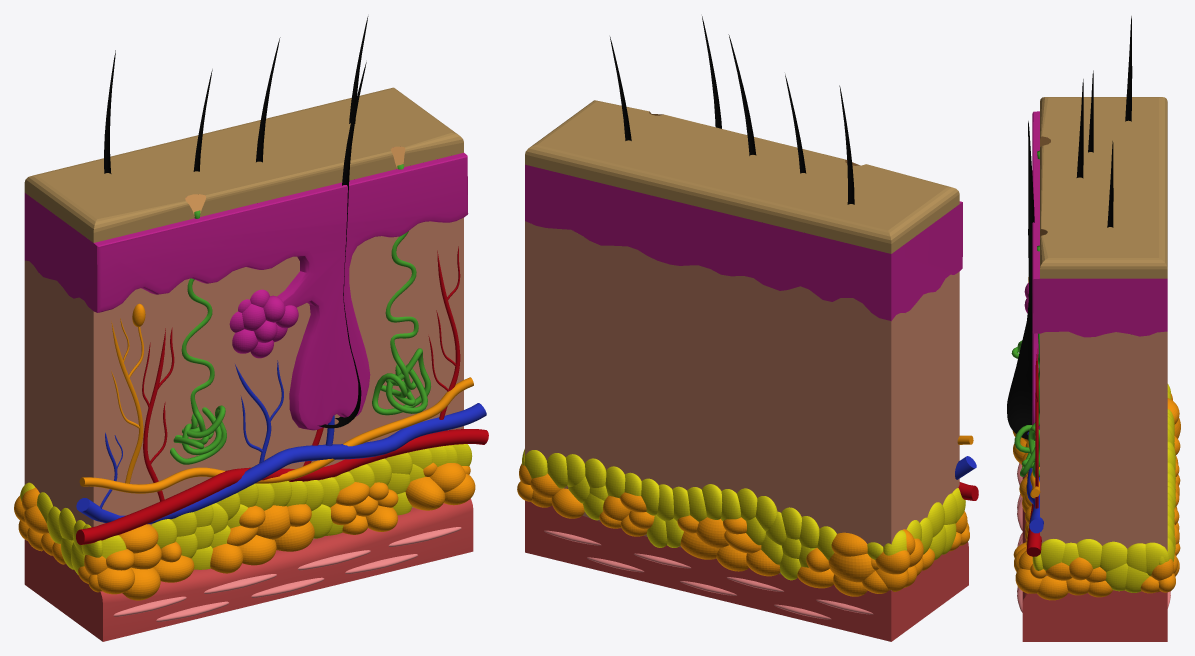
The picture shows the model from 3 angles, left to right: view 1: azimuth 30°, elevation 25°; view 2: azimuth 150°, elevation 25°; view 3: azimuth 270°, elevation 25°; orthographic projection. The views are drawn at different scales.
Visible parts, largest first — view 1: Cube_1, Cube_005_7, Cube_004_6, Cube_002_4, BezierCurve_001_8, BezierCurve_002_9, BezierCurve_003_10, Cylinder_006_22, BezierCurve_007_19, Sphere_007_16, Circle_003_2, BezierCurve_011_20 (+13 smaller); view 2: Cube_1, Cube_004_6, Cube_005_7, Cube_002_4, Circle_003_2, Cylinder_001_23, Sphere_097_118, Sphere_105_126, Sphere_100_121, Sphere_148_169, Sphere_104_125, Sphere_091_112; view 3: Cube_1, Cube_004_6, Cube_005_7, Cube_002_4, Circle_003_2, BezierCurve_001_8, Sphere_071_92, Sphere_069_90, Sphere_060_81, BezierCurve_013_15, Sphere_059_80, Sphere_075_96 (+13 smaller).
Boxes of the visible parts, x1,y1,x2,y2 form: Cube_1: [24, 217, 463, 539]; Cube_005_7: [24, 152, 468, 430]; Cube_004_6: [24, 87, 463, 242]; Cube_002_4: [24, 498, 473, 641]; BezierCurve_001_8: [170, 164, 430, 464]; BezierCurve_002_9: [76, 403, 486, 524]; BezierCurve_003_10: [76, 429, 488, 544]; Cylinder_006_22: [113, 527, 461, 621]; BezierCurve_007_19: [79, 377, 473, 493]; Sphere_007_16: [229, 289, 298, 358]; Circle_003_2: [104, 16, 368, 428]; BezierCurve_011_20: [142, 327, 174, 501]; Cube_1: [525, 221, 959, 590]; Cube_004_6: [525, 100, 959, 253]; Cube_005_7: [525, 164, 962, 321]; Cube_002_4: [525, 500, 968, 641]; Circle_003_2: [610, 16, 854, 204]; Cylinder_001_23: [544, 530, 873, 619]; Sphere_097_118: [828, 553, 875, 582]; Sphere_105_126: [696, 517, 728, 548]; Sphere_100_121: [831, 532, 867, 556]; Sphere_148_169: [551, 488, 584, 518]; Sphere_104_125: [680, 531, 719, 559]; Sphere_091_112: [875, 550, 910, 574]; Cube_1: [1040, 331, 1167, 575]; Cube_004_6: [1040, 97, 1167, 278]; Cube_005_7: [1032, 111, 1167, 429]; Cube_002_4: [1022, 475, 1167, 641]; Circle_003_2: [1007, 16, 1132, 439]; BezierCurve_001_8: [1011, 150, 1039, 477]; Sphere_071_92: [1100, 541, 1127, 571]; Sphere_069_90: [1040, 539, 1065, 570]; Sphere_060_81: [1037, 576, 1068, 600]; BezierCurve_013_15: [1035, 349, 1038, 508]; Sphere_059_80: [1076, 539, 1102, 569]; Sphere_075_96: [1145, 542, 1169, 576].
Size of the model in its own units: 2.31 by 2.89 by 0.9246.
